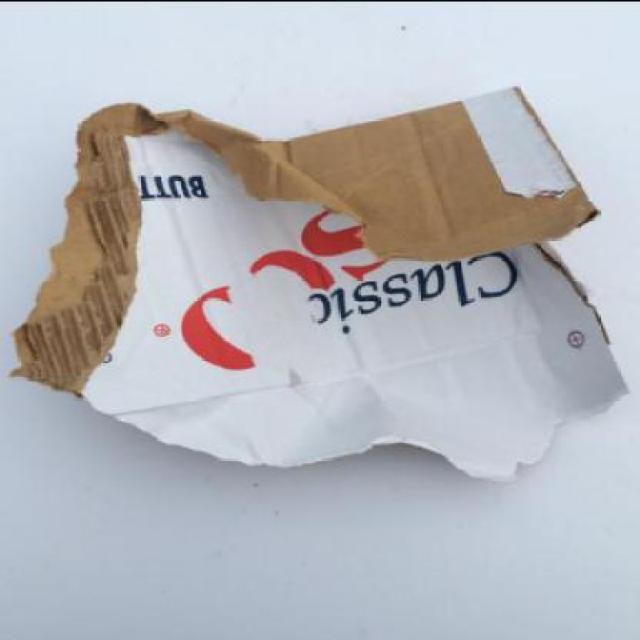CARDBOARD: (8, 81, 635, 476)
